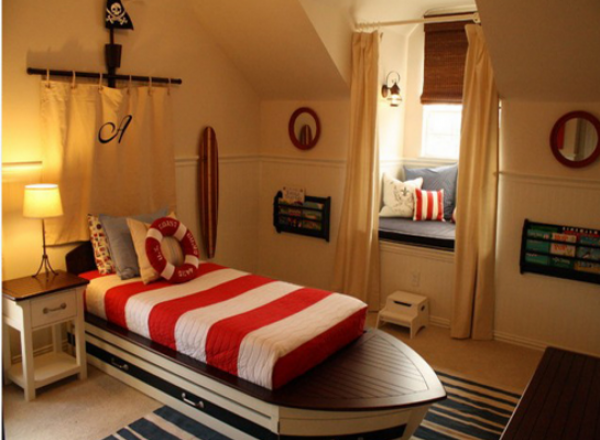床: (83, 263, 365, 390)
枕头: (87, 211, 202, 277), (383, 157, 460, 228)
灯: (21, 184, 61, 278)
